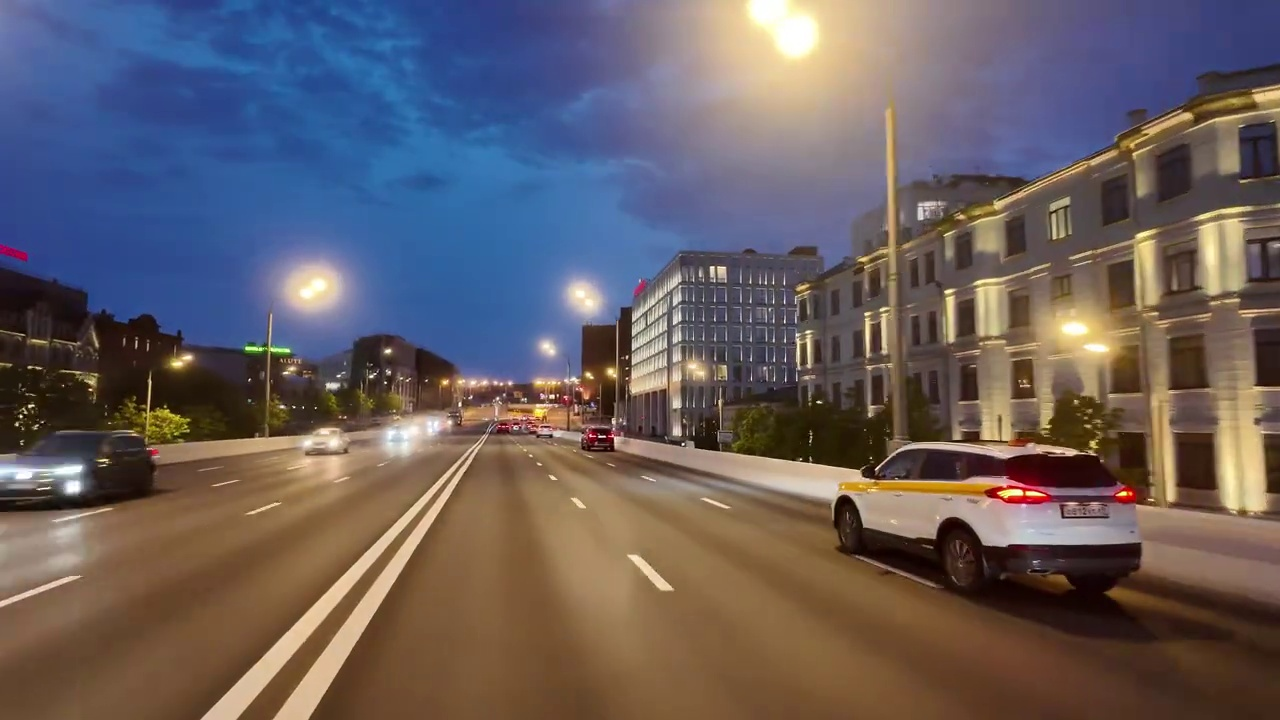acesa: (736, 4, 826, 63), (1055, 310, 1108, 357), (291, 270, 334, 307), (569, 282, 600, 311), (537, 338, 559, 360)
